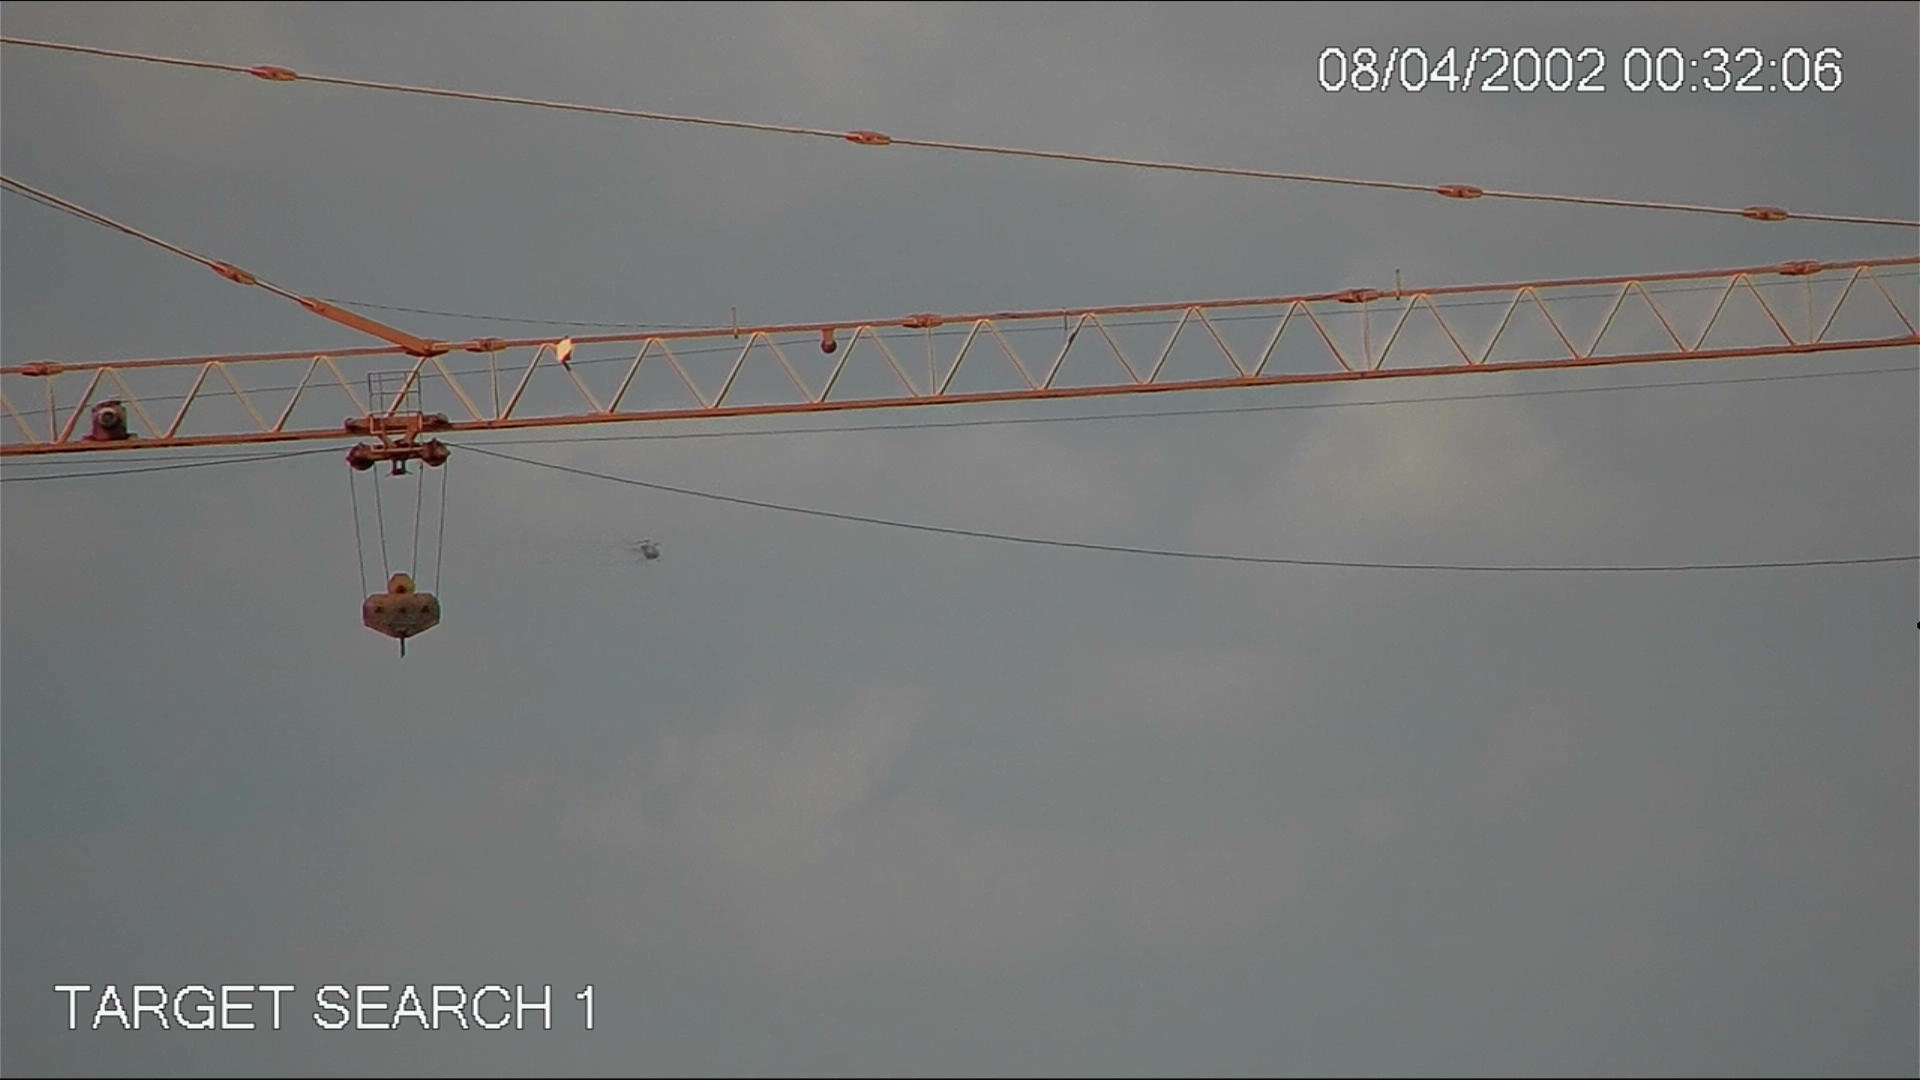SU_30: (618, 530, 669, 571)
